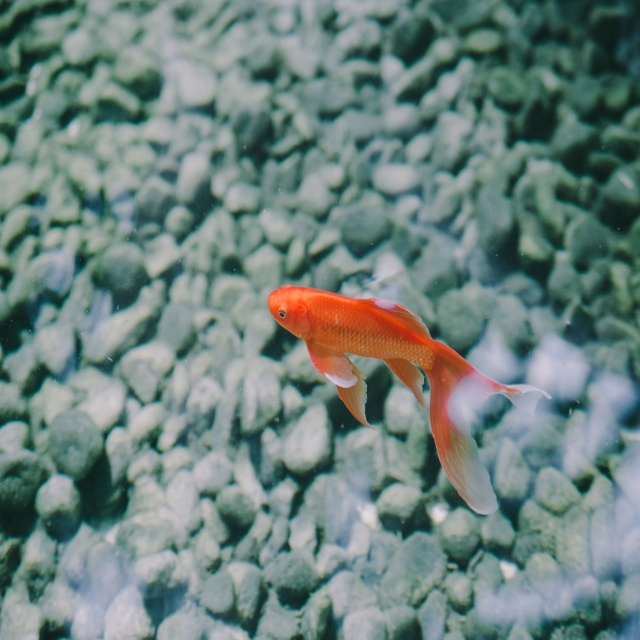Goldfish: (262, 294, 547, 510)
